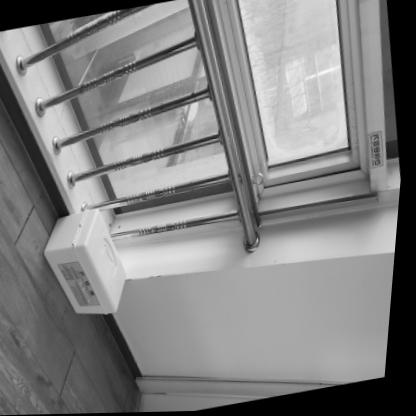DDL: (38, 205, 138, 322)
